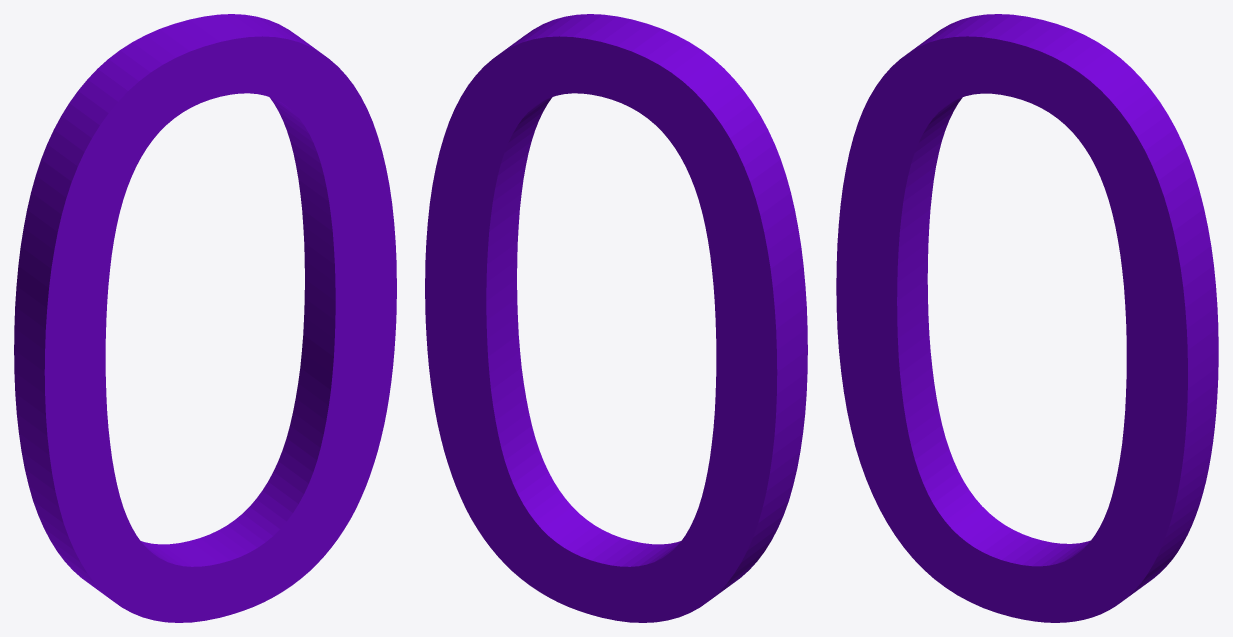
File: 3d-number-0.glb
3 renders of one model, left to right at view 1: azimuth 30°, elevation 25°; view 2: azimuth 150°, elevation 25°; view 3: azimuth 330°, elevation 25°, orthographic.
Visible parts, largest first — view 1: Mesh_Mesh_head_geo.001_lambert2SG.001; view 2: Mesh_Mesh_head_geo.001_lambert2SG.001; view 3: Mesh_Mesh_head_geo.001_lambert2SG.001.
Part boxes in pixels (x1=…): Mesh_Mesh_head_geo.001_lambert2SG.001: x1=14, y1=14, x2=396, y2=622; Mesh_Mesh_head_geo.001_lambert2SG.001: x1=425, y1=14, x2=807, y2=622; Mesh_Mesh_head_geo.001_lambert2SG.001: x1=836, y1=14, x2=1218, y2=622.
Size of the model in its own units: 0.0331 by 0.0517 by 0.005.
